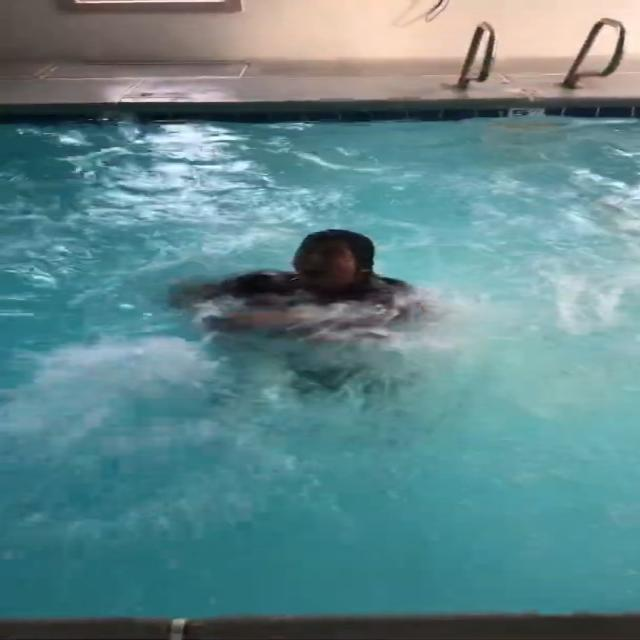Drowning: (176, 229, 438, 351)
